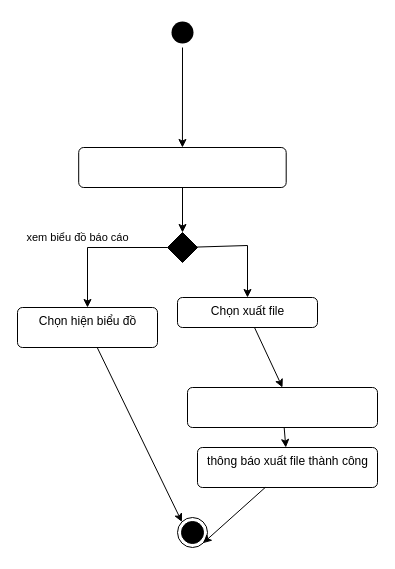
Image size: 395x569. Some labels were removed from this diagram. The shapes that lost their labels are listed below. From the top down, each one's centre as x and y in pixels, then its label:
At point 182,167: "Hiện màn hình thống kê doanh thu".
At point 282,407: "thực hiện xuất báo cáo ra file excel".
